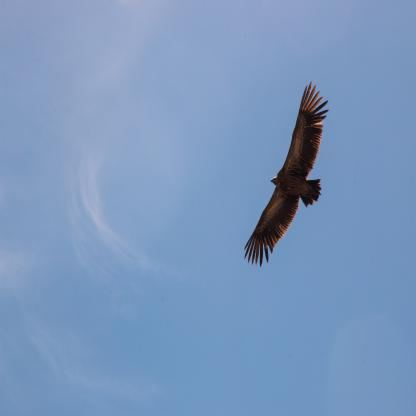bird: (246, 80, 324, 262)
